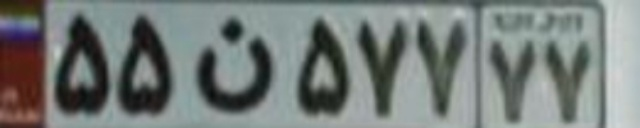5: (52, 13, 110, 112), (295, 16, 350, 118), (115, 13, 171, 112)
7: (413, 15, 468, 118), (356, 16, 406, 118), (487, 35, 538, 123), (545, 34, 594, 123)
non: (194, 16, 274, 113)
